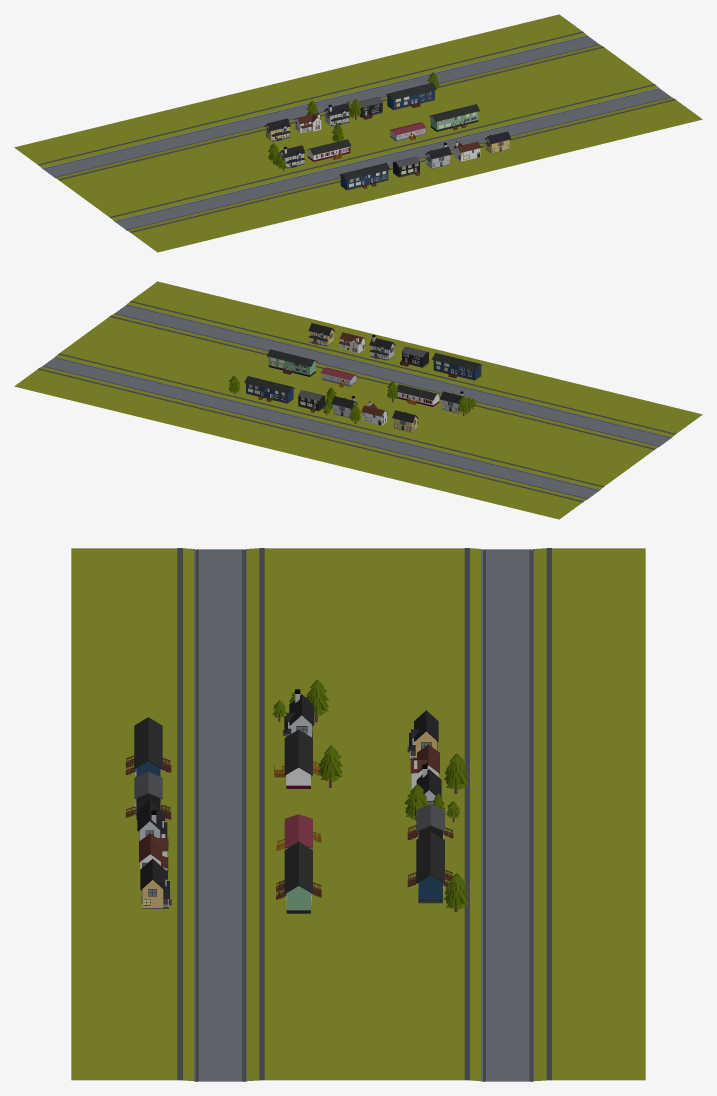
Rendered from house_mvp.glb.
3 renders of one model, top to bottom at view 1: azimuth 30°, elevation 25°; view 2: azimuth 150°, elevation 25°; view 3: azimuth 270°, elevation 25°, orthographic. The views are drawn at different scales.
Visible parts, largest first — view 1: Cube.001, Cube, AAA_House_3.001, AAA_House_3, AAA_House_3.002, AAA_House_4, AAA_House_5, AAA_House_2.003, AAA_House_6, AAA_House_2.004, AAA_House_2, AAA_House_2.002 (+4 smaller); view 2: Cube.001, Cube, AAA_House_3, AAA_House_3.001, AAA_House_3.002, AAA_House_4, AAA_House_5, AAA_House_2, AAA_House_6, AAA_House_6.001, AAA_House_2.002, AAA_House_2.004 (+3 smaller); view 3: Cube.001, Cube, AAA_House_3.001, AAA_House_3.002, AAA_House_3, AAA_House_4, AAA_House_2.002, AAA_House_6, AAA_House_2.001, AAA_House_6.001, AAA_House_5, AAA_House_2.004 (+2 smaller).
Boxes of the visible parts, x1,y1,x2,y2 form: Cube.001: [14, 14, 630, 199]; Cube: [86, 67, 702, 252]; AAA_House_3.001: [429, 104, 479, 131]; AAA_House_3: [339, 162, 389, 190]; AAA_House_3.002: [385, 82, 436, 110]; AAA_House_4: [306, 139, 351, 161]; AAA_House_5: [389, 122, 426, 141]; AAA_House_2.003: [323, 103, 349, 126]; AAA_House_6: [392, 156, 420, 177]; AAA_House_2.004: [264, 118, 290, 141]; AAA_House_2: [425, 142, 451, 168]; AAA_House_2.002: [484, 131, 510, 153]; Cube.001: [14, 334, 630, 519]; Cube: [86, 281, 702, 466]; AAA_House_3: [431, 353, 482, 380]; AAA_House_3.001: [266, 349, 317, 376]; AAA_House_3.002: [244, 376, 295, 403]; AAA_House_4: [396, 384, 439, 406]; AAA_House_5: [320, 367, 357, 387]; AAA_House_2: [369, 335, 395, 360]; AAA_House_6: [400, 346, 429, 367]; AAA_House_6.001: [297, 390, 325, 412]; AAA_House_2.002: [308, 323, 334, 346]; AAA_House_2.004: [392, 410, 418, 432]; Cube.001: [358, 548, 645, 1081]; Cube: [71, 548, 358, 1081]; AAA_House_3.001: [276, 841, 321, 913]; AAA_House_3.002: [407, 831, 452, 903]; AAA_House_3: [125, 717, 171, 776]; AAA_House_4: [274, 729, 320, 788]; AAA_House_2.002: [140, 858, 171, 908]; AAA_House_6: [125, 772, 171, 819]; AAA_House_2.001: [283, 689, 314, 737]; AAA_House_6.001: [407, 804, 453, 839]; AAA_House_5: [276, 814, 321, 850]; AAA_House_2.004: [407, 710, 438, 759].
Size of the model in its own units: 309 by 13.68 by 141.
2 materials, 2 textured.
